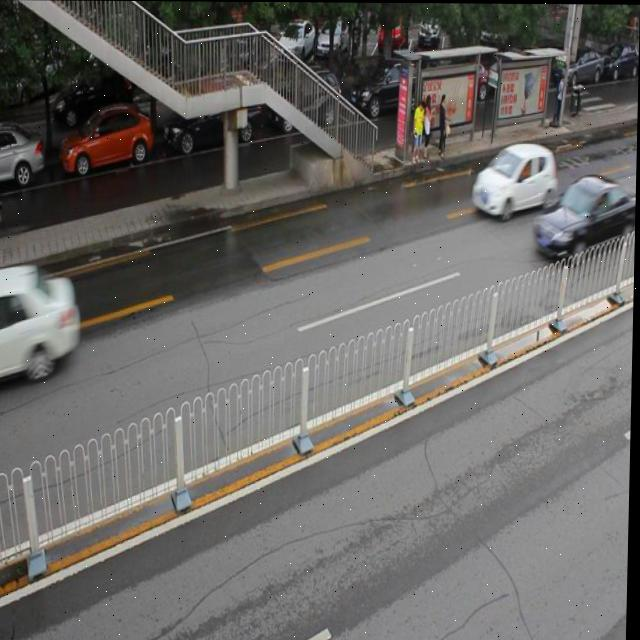car: (0, 260, 80, 392), (534, 172, 637, 256), (163, 72, 261, 147), (61, 107, 155, 179), (470, 141, 556, 216), (268, 67, 344, 133), (349, 58, 425, 120), (0, 124, 47, 190)
